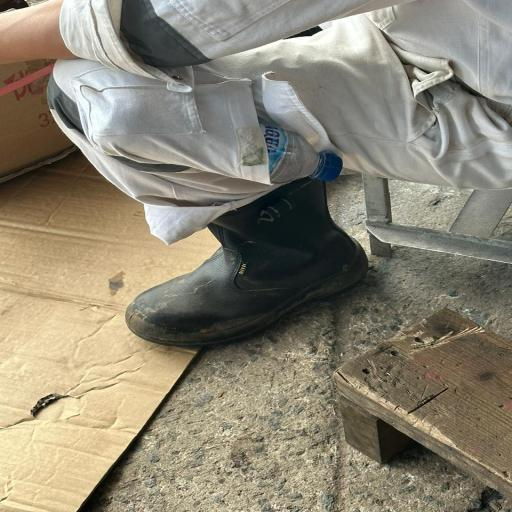safety_shoe: (104, 178, 383, 350)
